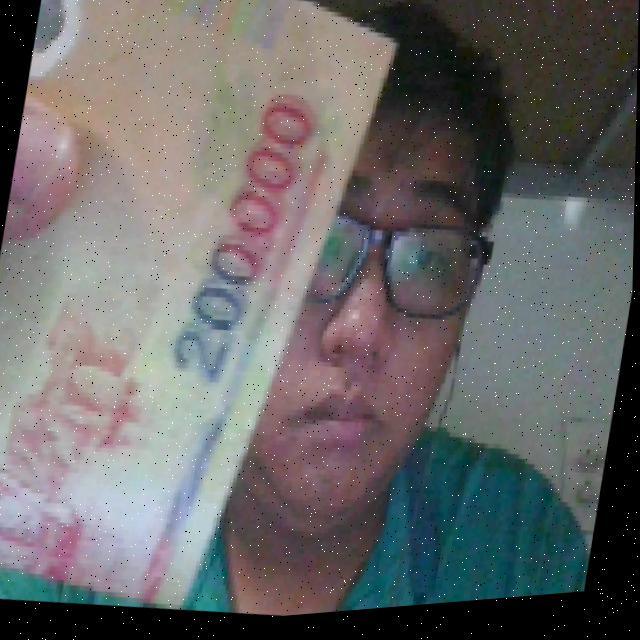200 000 VND: (0, 0, 410, 639)
